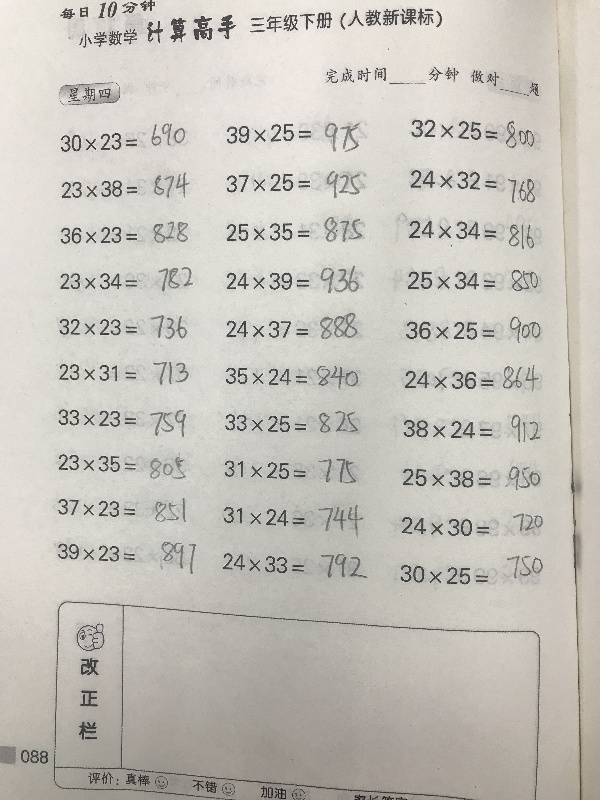equation: (396, 550, 547, 592), (220, 545, 369, 585), (53, 535, 197, 575), (218, 451, 362, 491), (222, 498, 366, 538), (400, 411, 543, 448), (395, 505, 549, 539), (223, 119, 364, 156), (404, 215, 539, 253), (401, 361, 543, 396), (222, 358, 367, 391), (55, 449, 190, 484), (222, 264, 365, 297), (55, 405, 189, 440), (222, 407, 366, 439), (222, 312, 361, 345), (407, 116, 538, 151), (399, 463, 545, 494), (407, 167, 540, 201), (57, 168, 191, 201), (405, 265, 542, 297), (55, 358, 191, 390), (55, 495, 190, 527), (222, 167, 364, 197), (57, 262, 194, 293), (400, 315, 545, 344), (57, 123, 190, 153), (56, 312, 192, 340), (56, 220, 191, 248), (223, 219, 314, 245)
